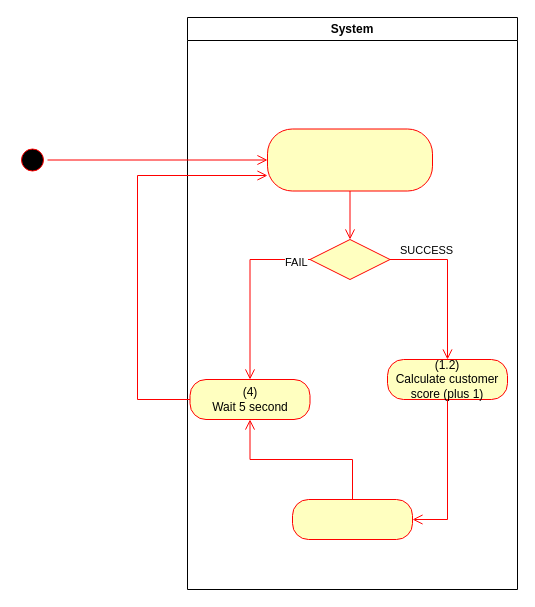
The diagram is 535 pixels wide and 607 high, and some of its shapes have lost their labels. Each missing label, with the centre of its shape:
"(1) if customer score < 85" goes at [349,159].
"(3) Push new score to DB" goes at [352,519].
